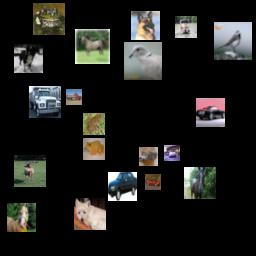automobile: (108, 172, 137, 201), (196, 98, 225, 127), (164, 145, 180, 161), (145, 174, 161, 190)
bird: (124, 42, 162, 80), (214, 22, 252, 60)
cat: (139, 147, 158, 166)
deer: (14, 155, 46, 187)
dog: (74, 198, 106, 230), (131, 11, 160, 40), (14, 44, 43, 73)
frog: (33, 3, 65, 35), (83, 113, 105, 135), (83, 138, 105, 160)
ship: (175, 16, 197, 38)
truck: (29, 86, 61, 118), (66, 89, 82, 105)
